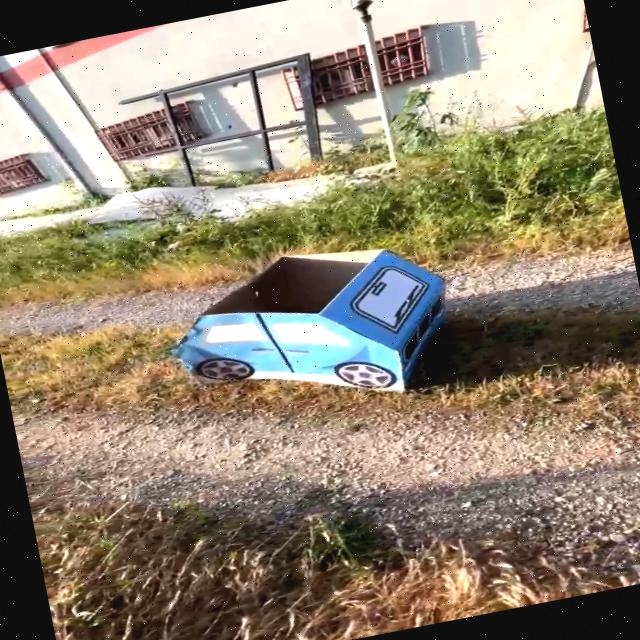blue_car: (137, 190, 518, 459)
